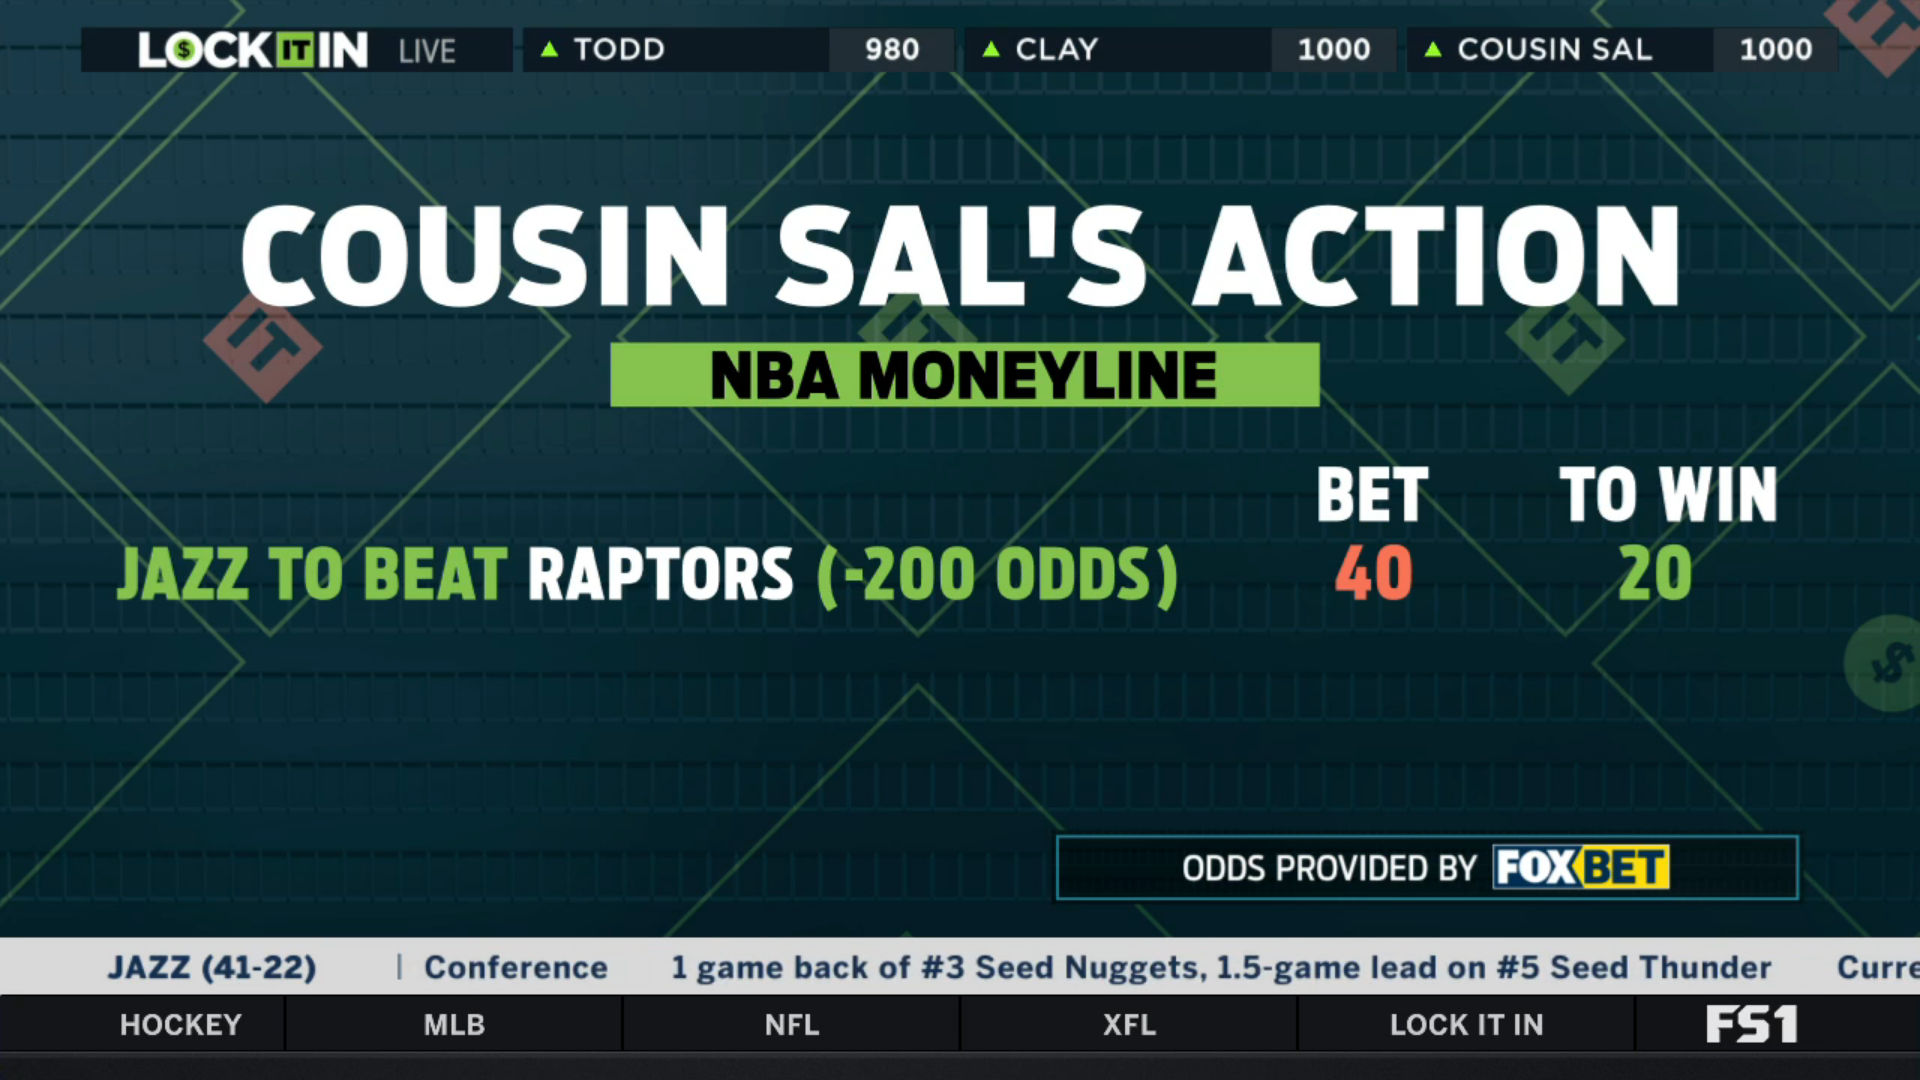Bet: (104, 529, 1192, 620), (1304, 452, 1439, 613)
Subtitle: (601, 334, 1329, 417)
Title: (232, 189, 1697, 320)
To Win: (1543, 452, 1787, 612)
Top Bar: (73, 18, 1847, 76)
